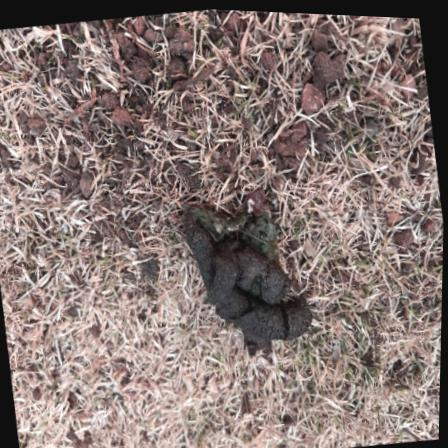dog-poop: (171, 178, 319, 375)
